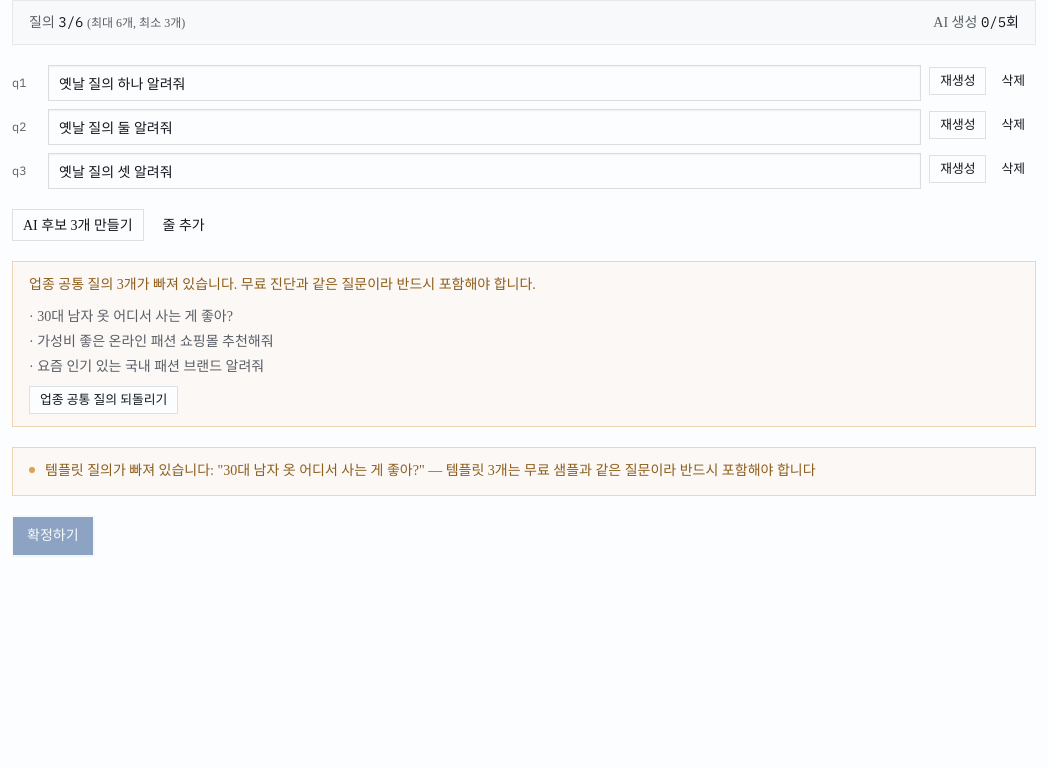
Test: QueryEditor — 줄 조작 › 템플릿이 빠진 프리필은 [되돌리기]로 채운다
Expected: the message does not show "확정할 수 있습니다", [12,447,1036,496]
Click the button "업종 공통 질의 되돌리기" at (104, 400), box [29,386,178,414]
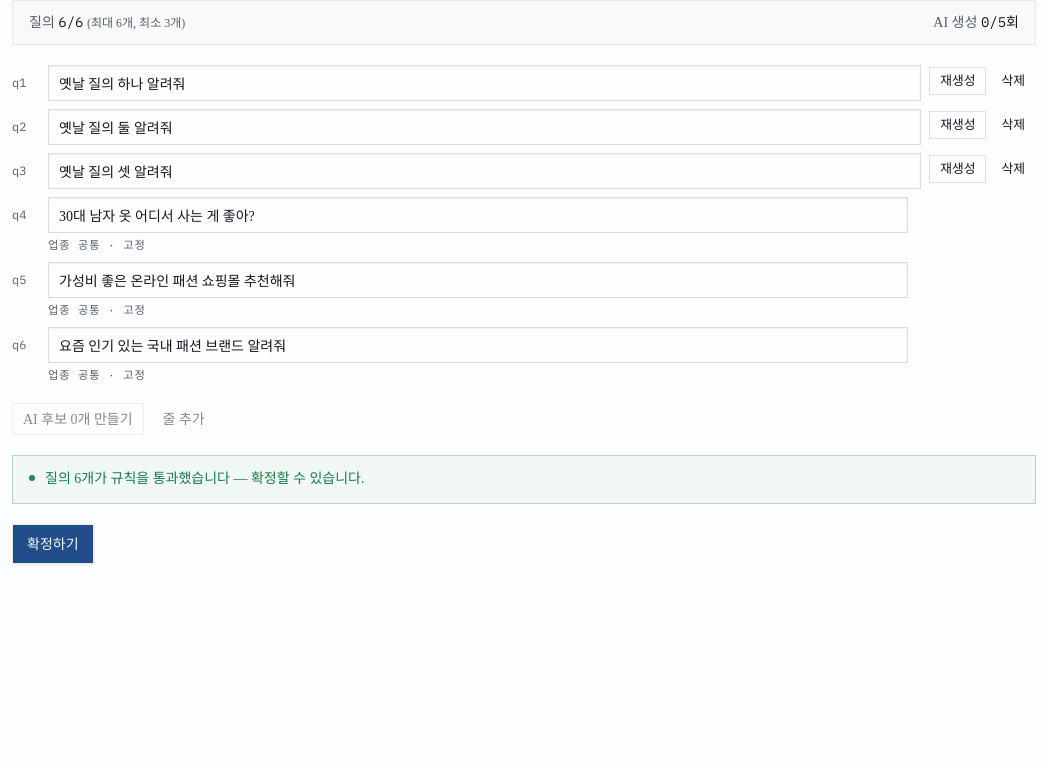
Expected: the number of fields is 6, [48,65,921,101]; [48,109,921,145]; [48,153,921,189]; [48,197,908,233]; [48,262,908,298]; [48,327,908,363]
Expected: the message shows "확정할 수 있습니다", [45,472,364,486]
